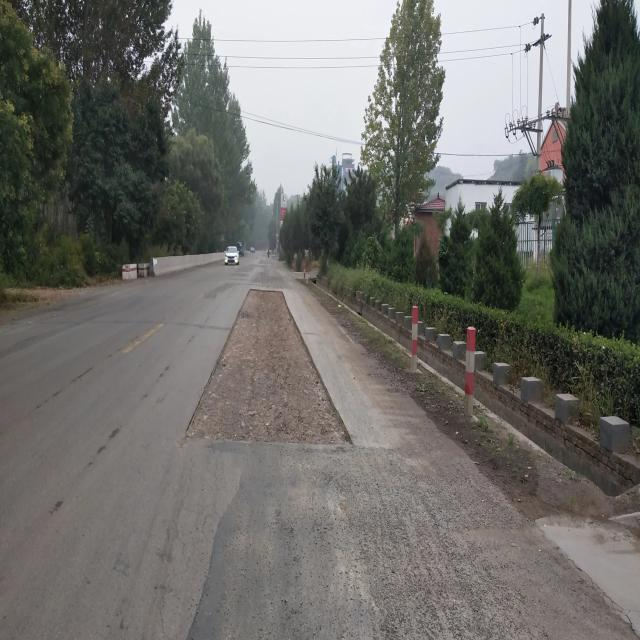Pothole: (185, 282, 362, 453)
